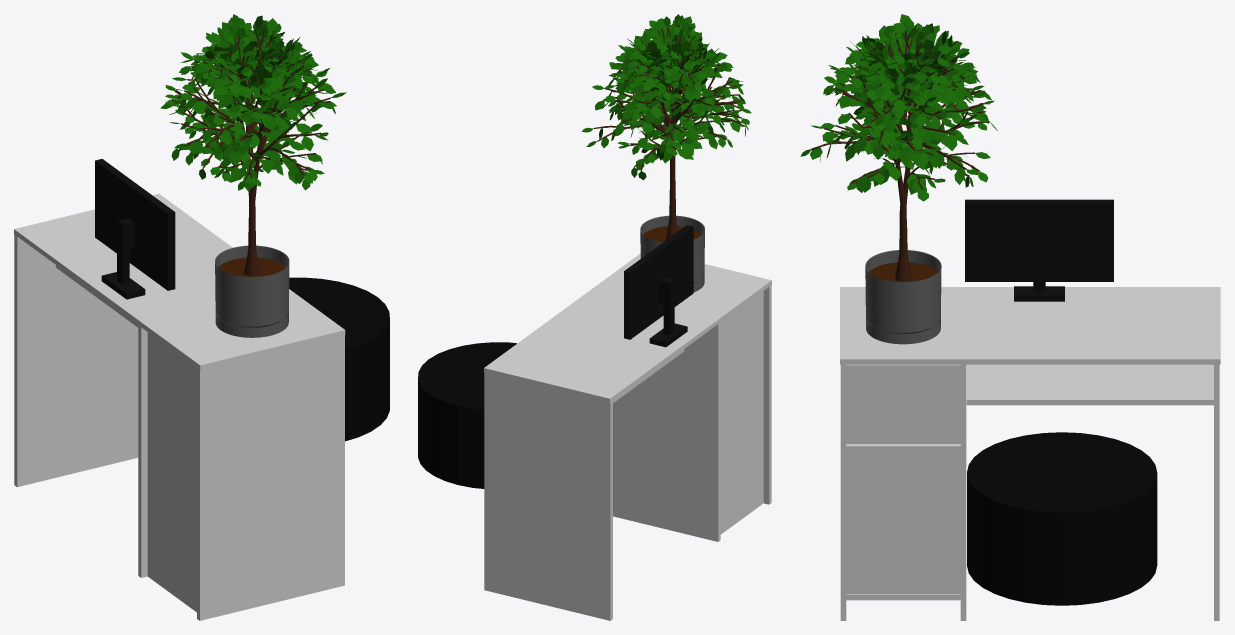
Rendered from desk.glb.
3 renders of one model, left to right at view 1: azimuth 30°, elevation 25°; view 2: azimuth 150°, elevation 25°; view 3: azimuth 270°, elevation 25°, orthographic. The views are drawn at different scales.
Parts seen in each view (by area): view 1: Desk.001, leaves, Cylinder.001, Monitor.002, Planter, tree; view 2: Desk.001, leaves, Cylinder.001, Monitor.002, tree, Planter; view 3: Desk.001, Cylinder.001, leaves, Monitor.002, Planter, tree.
Part boxes in pixels (bbox=[...]): Desk.001: bbox=[14, 194, 345, 620]; leaves: bbox=[160, 14, 346, 191]; Cylinder.001: bbox=[289, 277, 389, 441]; Monitor.002: bbox=[95, 159, 175, 299]; Planter: bbox=[215, 245, 289, 337]; tree: bbox=[172, 29, 330, 276]; Desk.001: bbox=[484, 253, 771, 620]; leaves: bbox=[581, 14, 751, 180]; Cylinder.001: bbox=[418, 342, 516, 488]; Monitor.002: bbox=[624, 225, 693, 347]; tree: bbox=[593, 26, 745, 239]; Planter: bbox=[640, 215, 704, 292]; Desk.001: bbox=[840, 287, 1220, 620]; Cylinder.001: bbox=[967, 432, 1157, 605]; leaves: bbox=[800, 14, 997, 201]; Monitor.002: bbox=[965, 199, 1113, 301]; Planter: bbox=[865, 250, 941, 344]; tree: bbox=[811, 29, 989, 281].
Bounding box in the file's own units: 0.8879 × 1.63 × 1.1.
